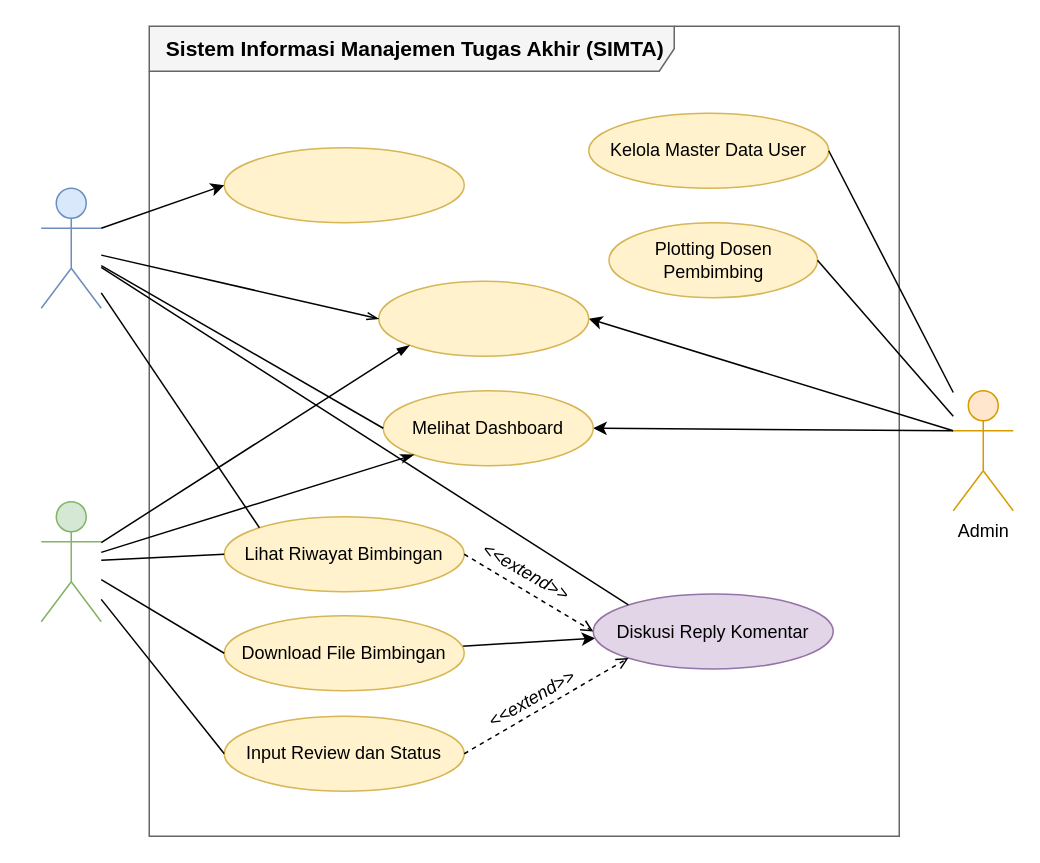
Some shapes in this 1040 by 863 pixel diagram are drawn without their labels. The shapes that lost their labels are listed below. From the top down, each one's centre as x and y in pixels, then its label:
the point at 343,184: Upload Dokumen Bimbingan
the point at 70,247: Mahasiswa
the point at 483,318: Login
the point at 70,561: Dosen
